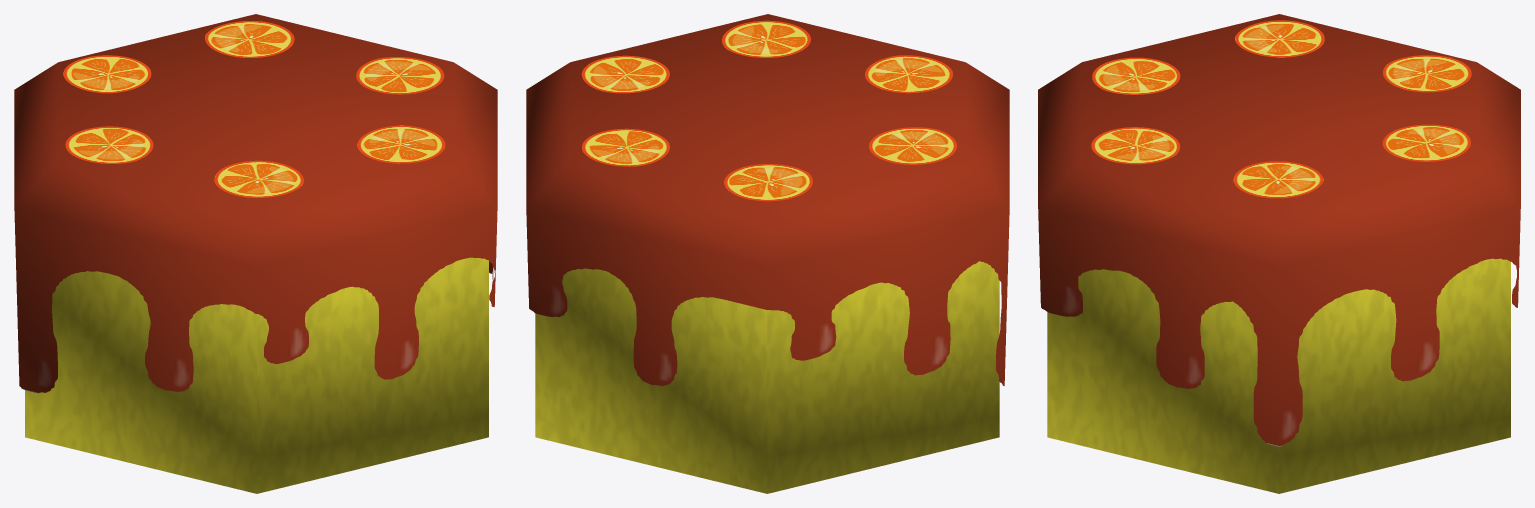
File: Cake_A_05.FBX
The picture shows the model from 3 angles, left to right: view 1: azimuth 30°, elevation 25°; view 2: azimuth 150°, elevation 25°; view 3: azimuth 270°, elevation 25°; orthographic projection.
Visible parts, largest first — view 1: Cake; view 2: Cake; view 3: Cake.
Part boxes in pixels (left/top/right/bottom): Cake: left=14, top=14, right=497, bottom=493; Cake: left=526, top=14, right=1009, bottom=493; Cake: left=1038, top=14, right=1520, bottom=493.
Size of the model in its own units: 106 by 56.96 by 92.14.
